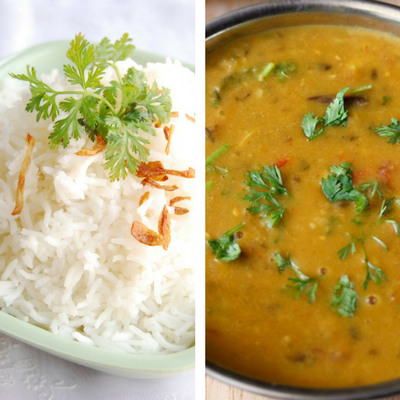plain rice: (23, 131, 143, 342)
